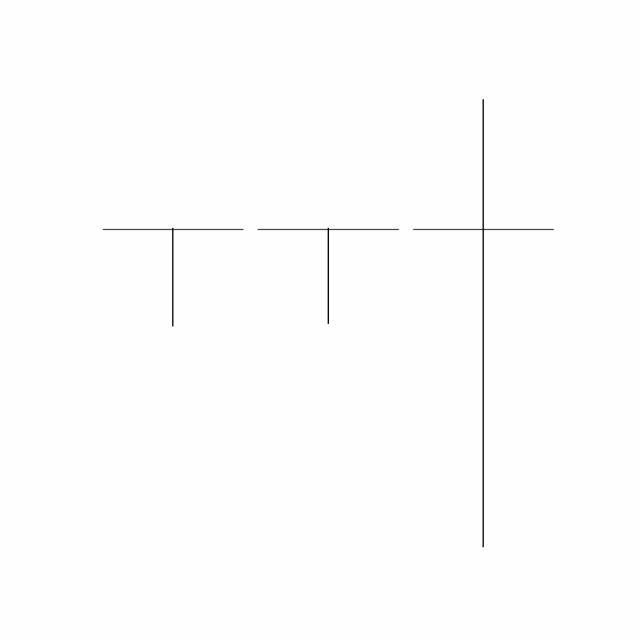Dragonfly Doji: (250, 227, 407, 327)
